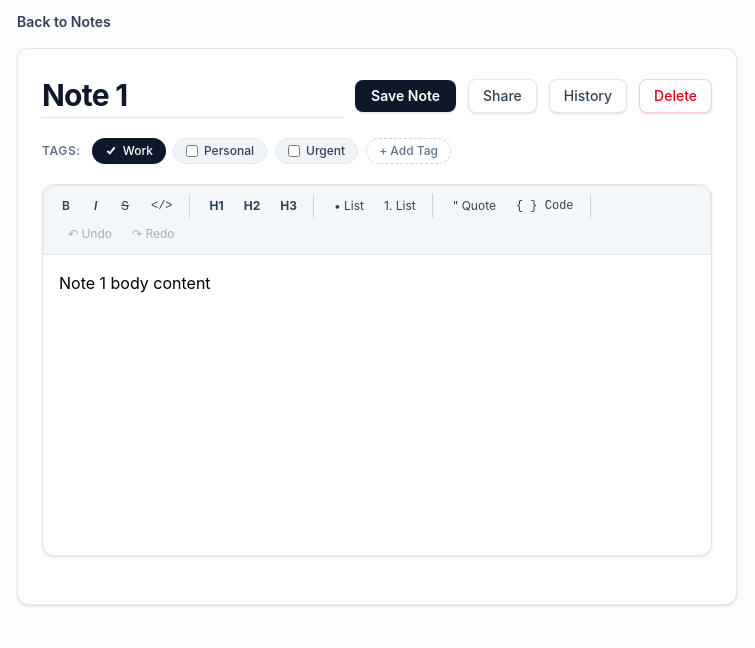
Test case: NoteEditorPage › Successful autosave is identifiable to the user
Replace the text in the field named "Note title" with "Updated Title": x=193, y=96 [42,73,343,118]
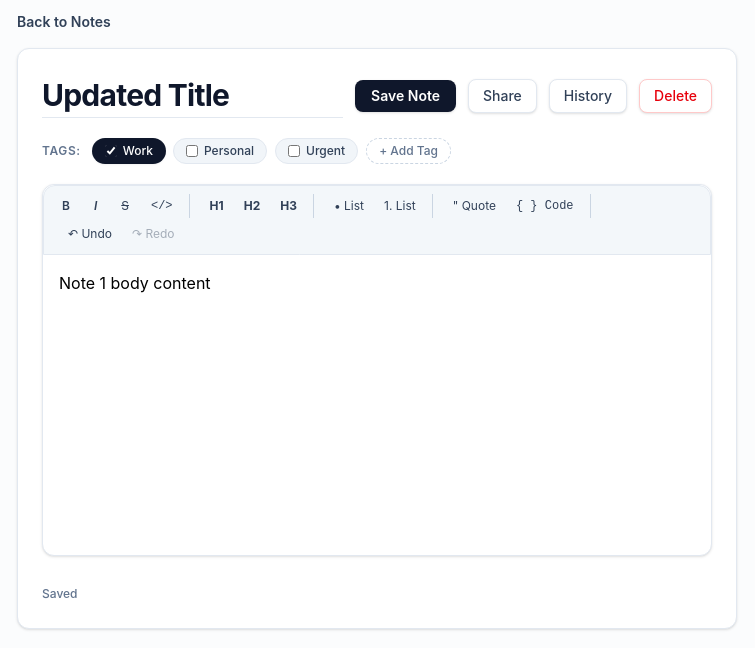
Result: the text "Saved" is shown at [42,586,78,602]
